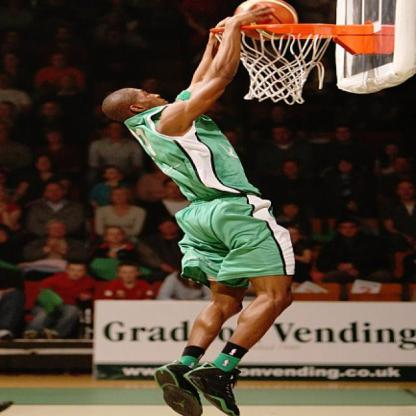basketball: (229, 0, 296, 41)
rim: (207, 24, 339, 41)
